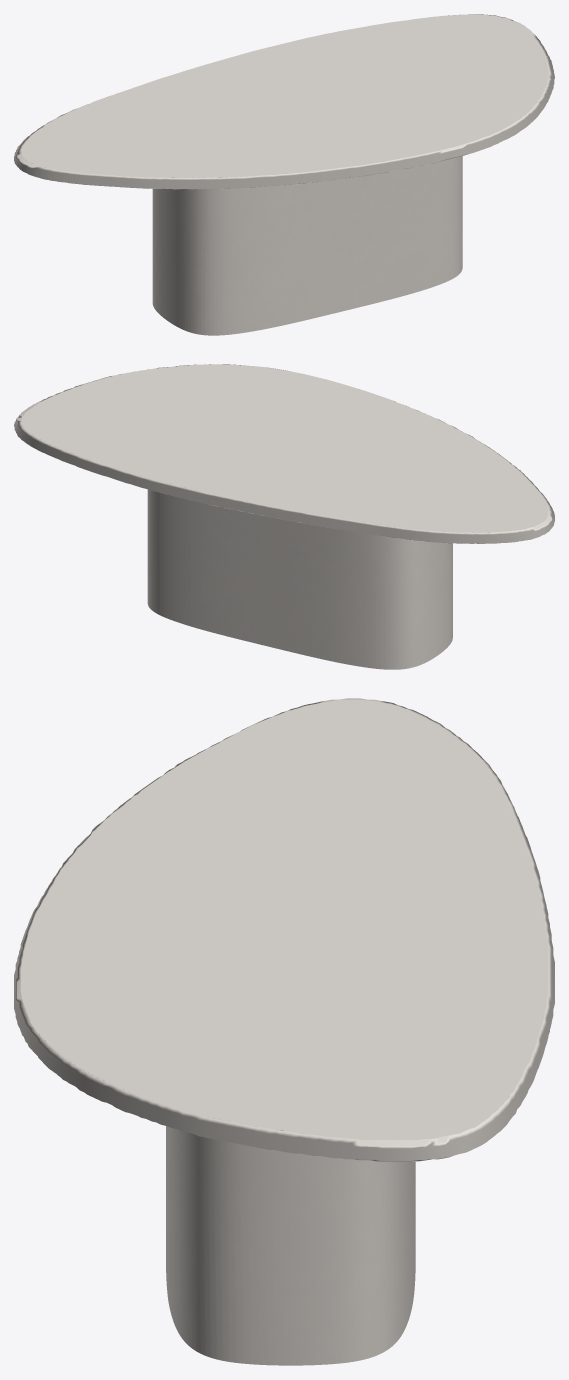
File: pearlwhite_pebbletop_round_fixed.glb
3 renders of one model, top to bottom at view 1: azimuth 30°, elevation 25°; view 2: azimuth 150°, elevation 25°; view 3: azimuth 270°, elevation 25°, orthographic. The views are drawn at different scales.
Parts seen in each view (by area): view 1: round_pebbletop, fixed; view 2: round_pebbletop, fixed; view 3: round_pebbletop, fixed.
Part boxes in pixels (x1,y1,x2,y2): round_pebbletop: (14,14,554,189); fixed: (152,156,462,335); round_pebbletop: (14,364,554,543); fixed: (147,489,452,669); round_pebbletop: (14,698,554,1161); fixed: (166,1126,415,1365).
Bounding box in the file's own units: 7.69 × 2.5 × 3.89.
Materials: 1 (1 with a texture image).
